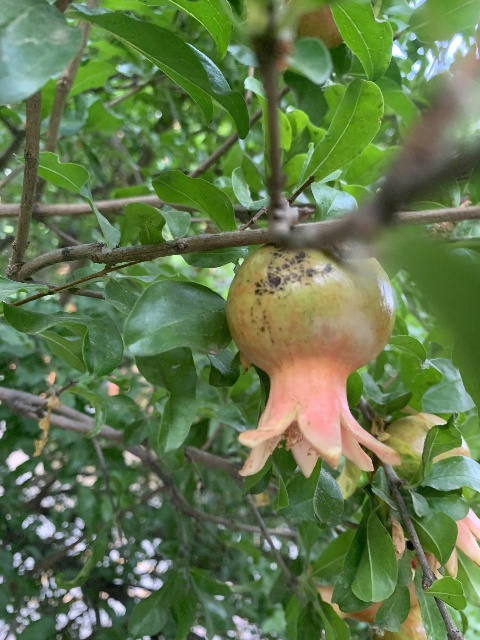early-fruit: (227, 244, 398, 482), (379, 413, 480, 578), (333, 581, 435, 640)
